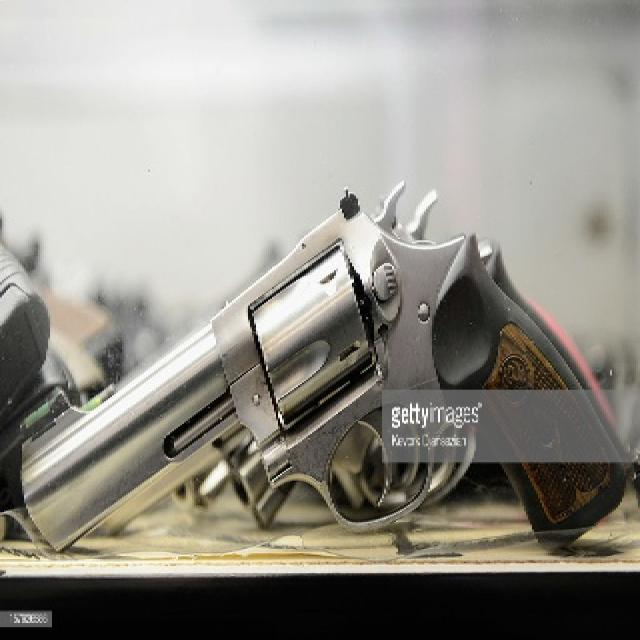handgun: (9, 179, 633, 554)
